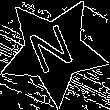N_SE: (26, 20, 81, 82)
